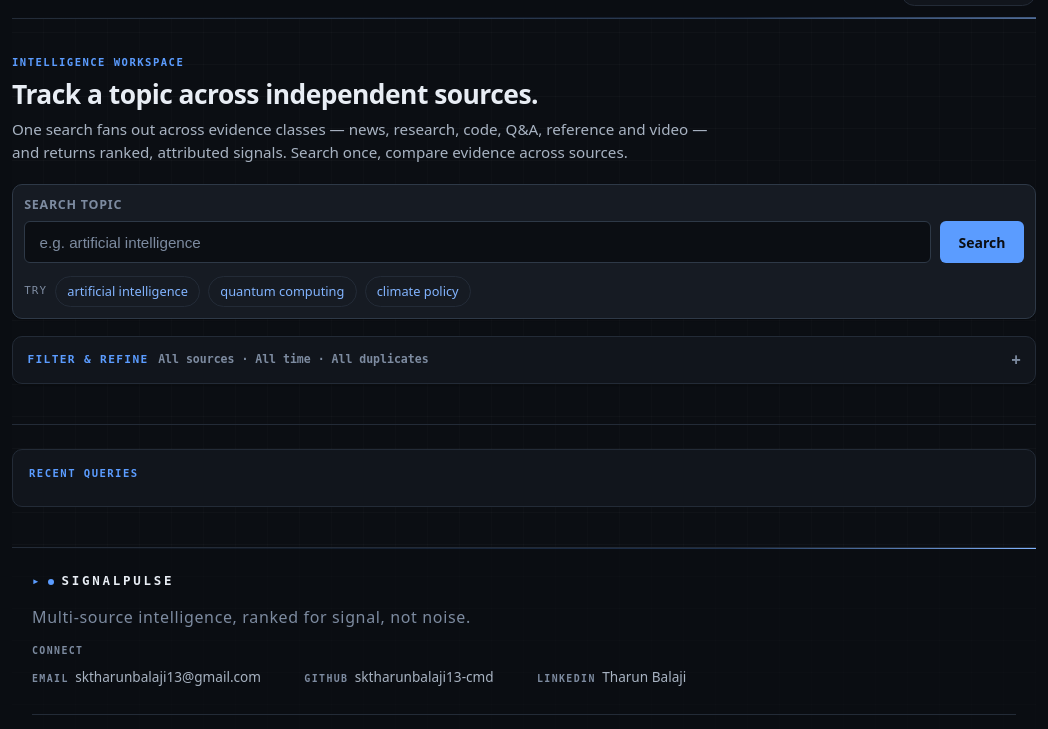
Test case: App › names missing evidence classes in the partial banner (M23 FE-F)
The width and height of the screenshot is (1048, 729).
In the field labelled "Search topic": (477,242) [24,221,930,263], type "ai"
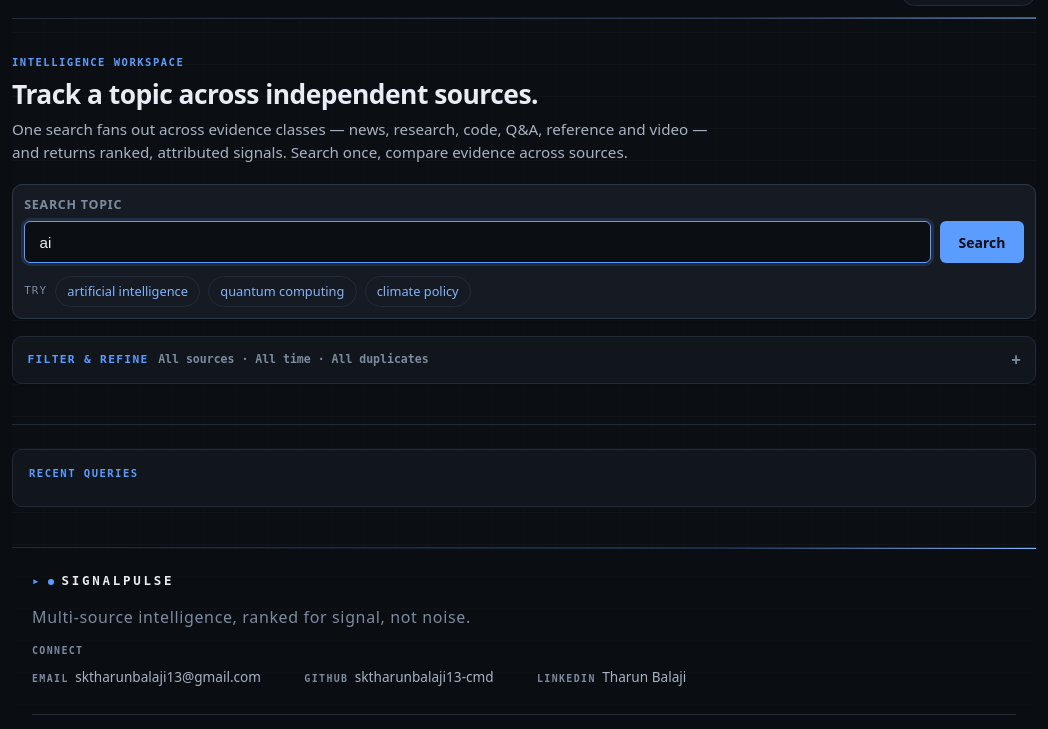
Click the button "Search": (982,242) [940,221,1024,263]
(page scrolled)
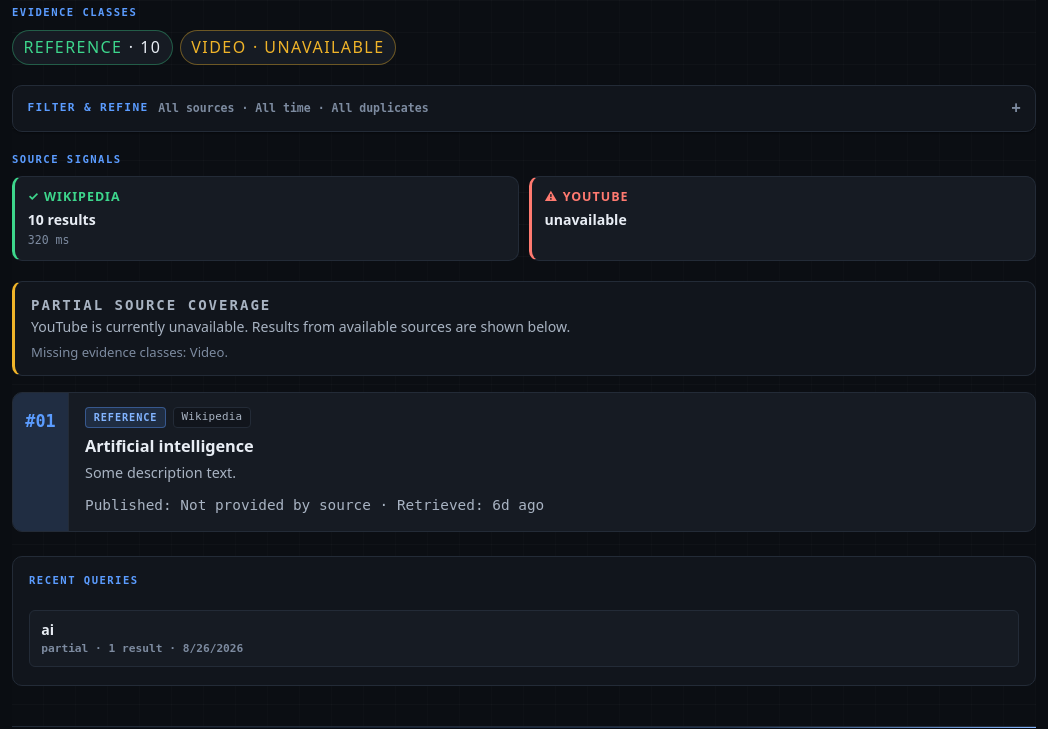
Result: the text "Missing evidence classes: Video." is shown at [31,343,228,361]
